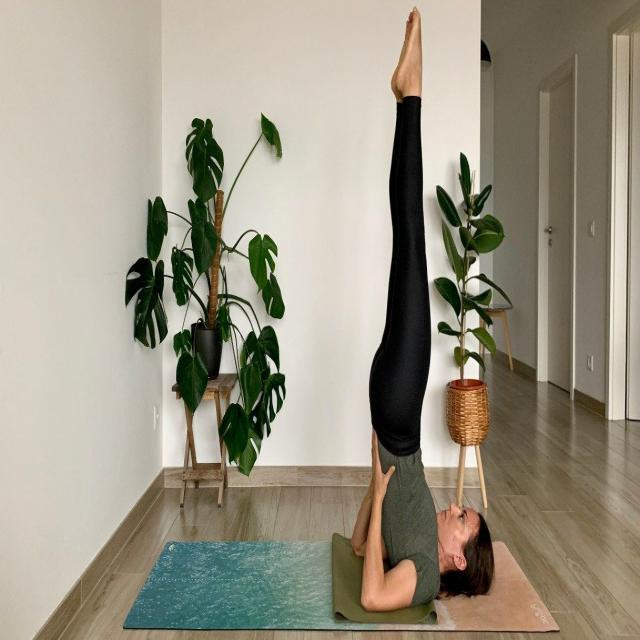yoga-pose shoulderstand: (341, 16, 500, 606)
